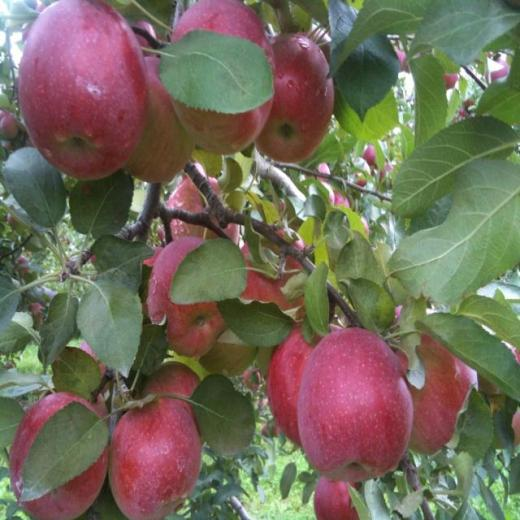Apple: (0, 0, 519, 519), (15, 1, 146, 178), (296, 325, 413, 483)
